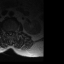CCS_stenosis: (9, 30, 11, 36)
LFS_severe_stenosis: (12, 29, 14, 33)
LLS_stenosis: (11, 30, 12, 34)
RFS_severe_stenosis: (6, 29, 8, 33)
RLS_stenosis: (8, 29, 9, 34)
